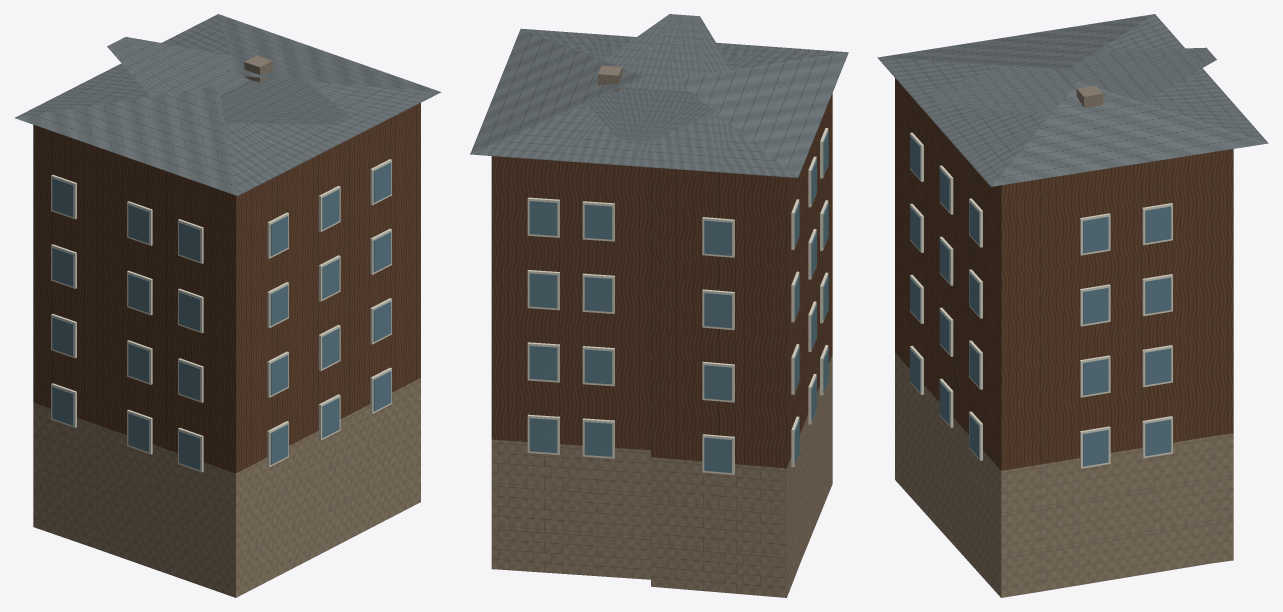
The model's file is core_0074.gltf.
The picture shows the model from 3 angles, left to right: view 1: azimuth 30°, elevation 25°; view 2: azimuth 150°, elevation 25°; view 3: azimuth 270°, elevation 25°; orthographic projection. The views are drawn at different scales.
Visible parts, largest first — view 1: core_0074; view 2: core_0074; view 3: core_0074.
Part boxes in pixels (<box>): core_0074: <box>15,14,441,597</box>; core_0074: <box>470,14,848,597</box>; core_0074: <box>877,14,1268,597</box>.
Bounding box in the file's own units: 14.88 × 17.95 × 14.23.
Materials: 6 (6 with a texture image).
